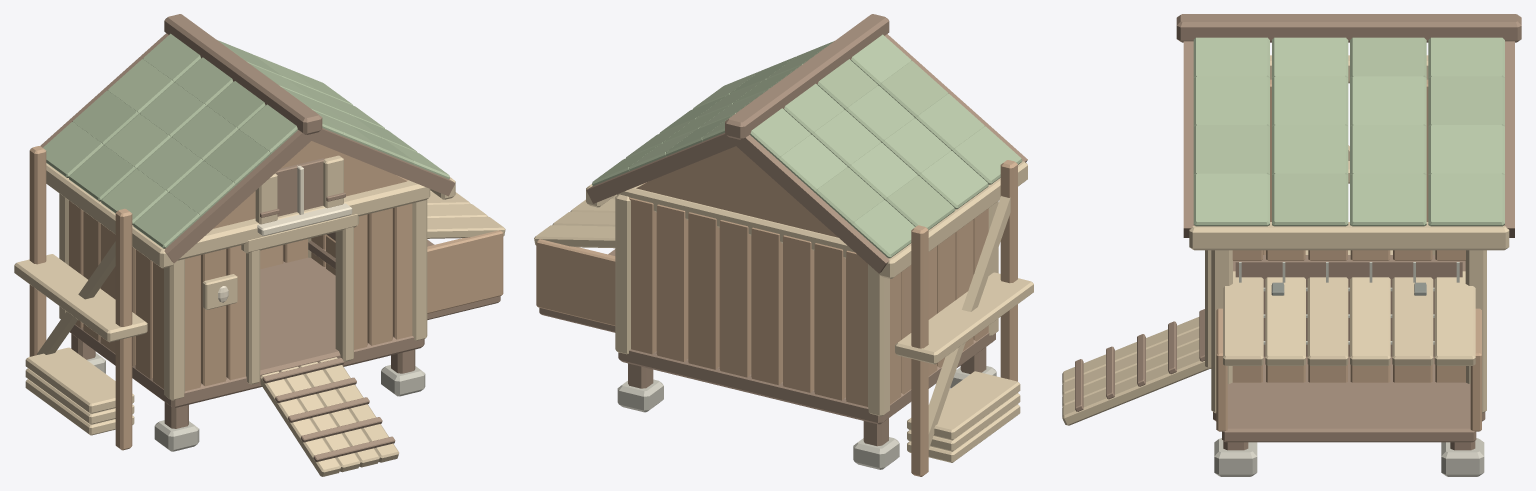
File: crafted-coop-upgrading.glb
3 views of the same model, side by side, from view 1: azimuth 30°, elevation 25°; view 2: azimuth 150°, elevation 25°; view 3: azimuth 270°, elevation 25° (orthographic). The views are drawn at different scales.
Parts seen in each view (by area): view 1: floor, nest-cheek-1, scaffold-platform, ridge-cap, scaffold-post-1, header-1, siding-30, extension-planks-2, barge-board-1, scaffold-post, corner-post-1, gable-1 (+60 smaller); view 2: gable, nest-cheek, floor, siding-4, siding-6, siding-1, siding-5, siding-3, siding-2, ridge-cap, scaffold-platform, scaffold-post (+46 smaller); view 3: nest-floor, ridge-cap, eave-fascia-1, vent-dark-interior, roof-tile-28, roof-tile-29, roof-tile-31, roof-tile-30, roof-tile-20, roof-tile-21, roof-tile-24, roof-tile-26 (+34 smaller).
Boxes of the visible parts, x1,y1,x2,y2 form: floor: [70, 257, 424, 407]; nest-cheek-1: [427, 230, 503, 313]; scaffold-platform: [14, 254, 147, 342]; ridge-cap: [164, 14, 322, 134]; scaffold-post-1: [115, 208, 132, 450]; header-1: [178, 180, 430, 260]; siding-30: [367, 208, 392, 345]; extension-planks-2: [25, 347, 134, 413]; barge-board-1: [164, 130, 314, 263]; scaffold-post: [29, 146, 46, 356]; corner-post-1: [164, 259, 184, 400]; gable-1: [213, 141, 406, 228]; gable: [636, 146, 838, 237]; nest-cheek: [536, 239, 615, 325]; floor: [618, 332, 995, 424]; siding-4: [719, 220, 751, 377]; siding-6: [656, 204, 688, 361]; siding-1: [814, 243, 845, 400]; siding-5: [688, 212, 719, 369]; siding-3: [751, 227, 782, 385]; siding-2: [783, 235, 814, 392]; ridge-cap: [725, 14, 889, 139]; scaffold-platform: [895, 272, 1033, 364]; scaffold-post: [911, 225, 928, 476]; nest-floor: [1222, 376, 1476, 442]; ridge-cap: [1176, 14, 1521, 42]; eave-fascia-1: [1189, 222, 1509, 250]; vent-dark-interior: [1235, 260, 1462, 356]; roof-tile-28: [1428, 173, 1504, 226]; roof-tile-29: [1350, 173, 1426, 226]; roof-tile-31: [1193, 173, 1269, 226]; roof-tile-30: [1272, 173, 1348, 226]; roof-tile-20: [1428, 76, 1504, 126]; roof-tile-21: [1350, 76, 1426, 126]; roof-tile-24: [1428, 125, 1504, 174]; roof-tile-26: [1272, 125, 1348, 174].
Size of the model in its own units: 2.42 by 1.88 by 2.02.
